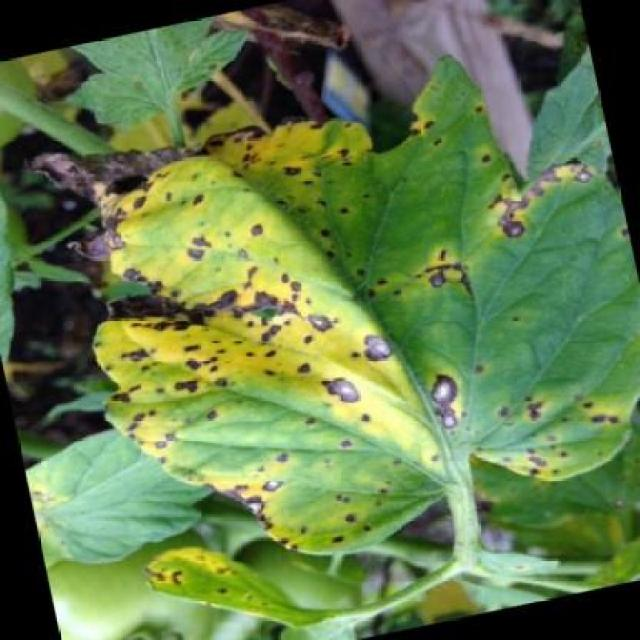Septoria leaf spot: (50, 37, 640, 600)
